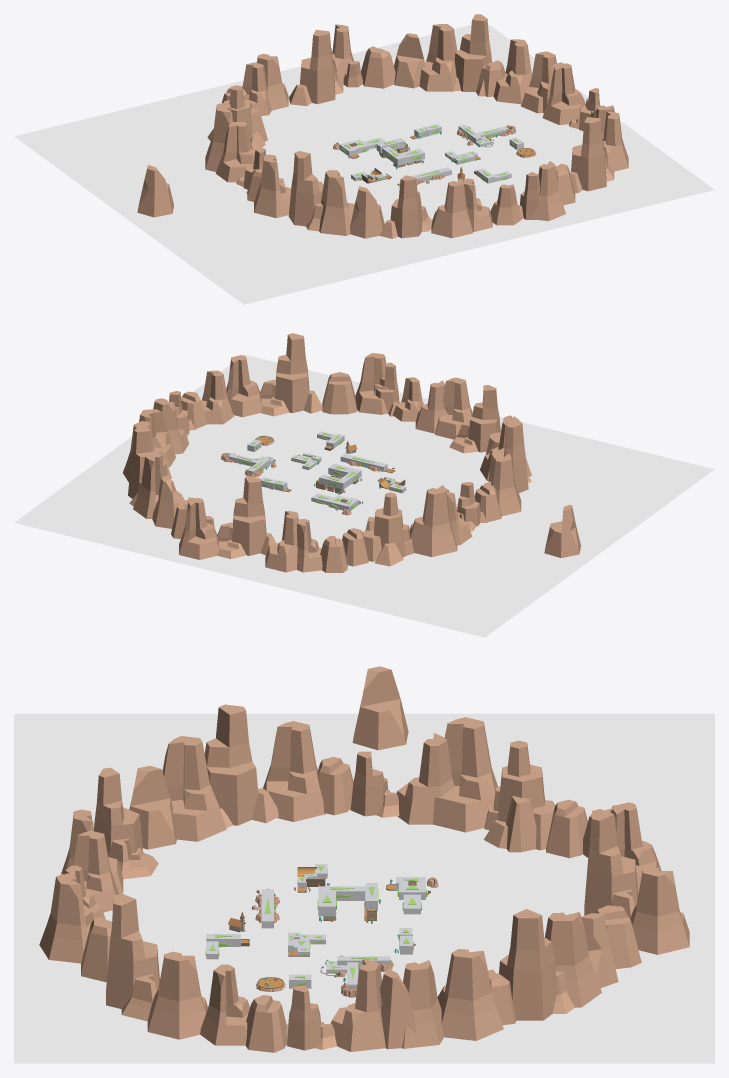
File: desert-client.glb
The picture shows the model from 3 angles, top to bottom: view 1: azimuth 30°, elevation 25°; view 2: azimuth 150°, elevation 25°; view 3: azimuth 270°, elevation 25°; orthographic projection. The views are drawn at different scales.
Visible parts, largest first — view 1: ground, map; view 2: ground, map; view 3: ground, map.
Part boxes in pixels (left/top/right/bottom): ground: left=14, top=24, right=714, bottom=304; map: left=137, top=14, right=628, bottom=238; ground: left=14, top=354, right=714, bottom=637; map: left=123, top=333, right=580, bottom=572; ground: left=14, top=713, right=714, bottom=1063; map: left=39, top=666, right=689, bottom=1052.
Bounding box in the file's own units: 163 × 24.18 × 138.
